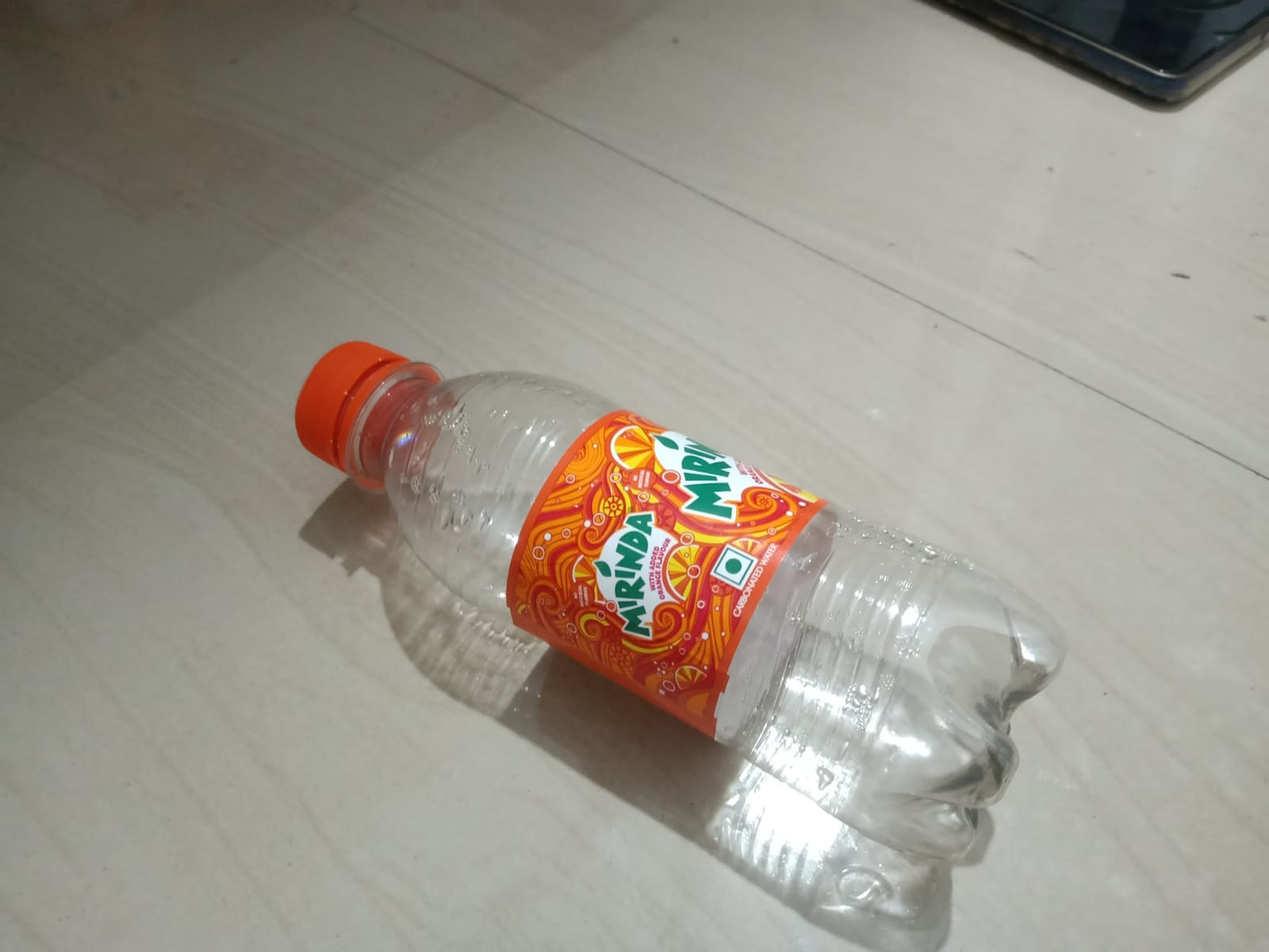plastic: (162, 305, 1075, 898)
